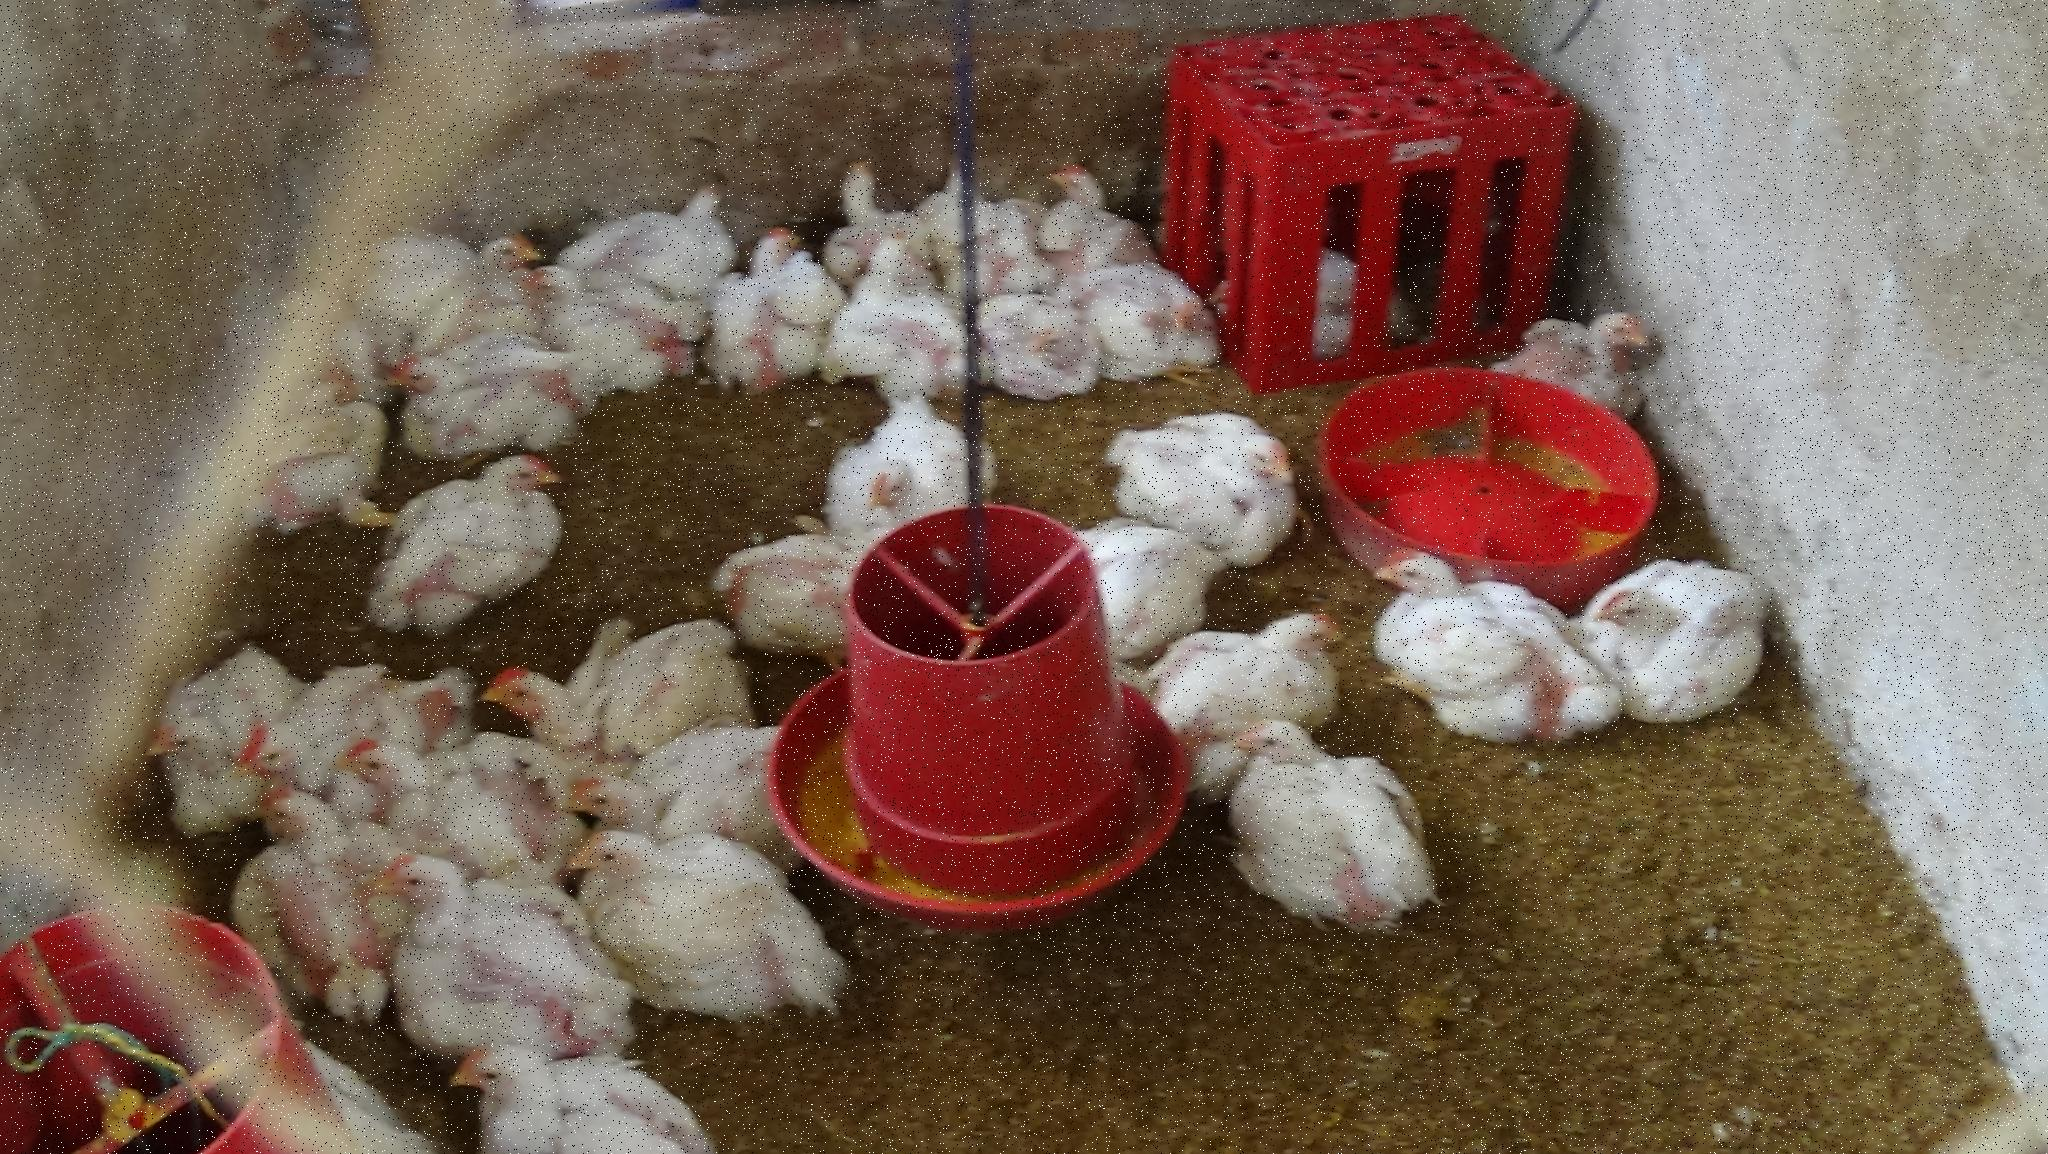Pollos: (570, 820, 850, 1017), (1221, 725, 1454, 927), (1362, 543, 1605, 735), (1596, 535, 1786, 735), (1160, 595, 1380, 764), (364, 857, 580, 1027), (394, 449, 584, 633), (482, 636, 750, 752), (560, 712, 799, 830), (452, 1044, 698, 1154), (1120, 412, 1315, 539), (1190, 241, 1416, 349), (241, 660, 387, 813), (1490, 291, 1674, 411), (387, 342, 580, 450), (1082, 505, 1236, 635), (840, 390, 986, 526), (250, 782, 360, 961), (340, 726, 499, 846), (262, 372, 367, 538), (705, 532, 871, 638), (834, 241, 964, 376), (715, 229, 837, 363), (155, 654, 253, 815), (1093, 267, 1212, 395), (516, 267, 670, 366), (608, 183, 750, 279), (978, 288, 1093, 395), (1042, 153, 1146, 258), (377, 235, 539, 298), (928, 146, 1025, 252), (828, 141, 910, 251)
